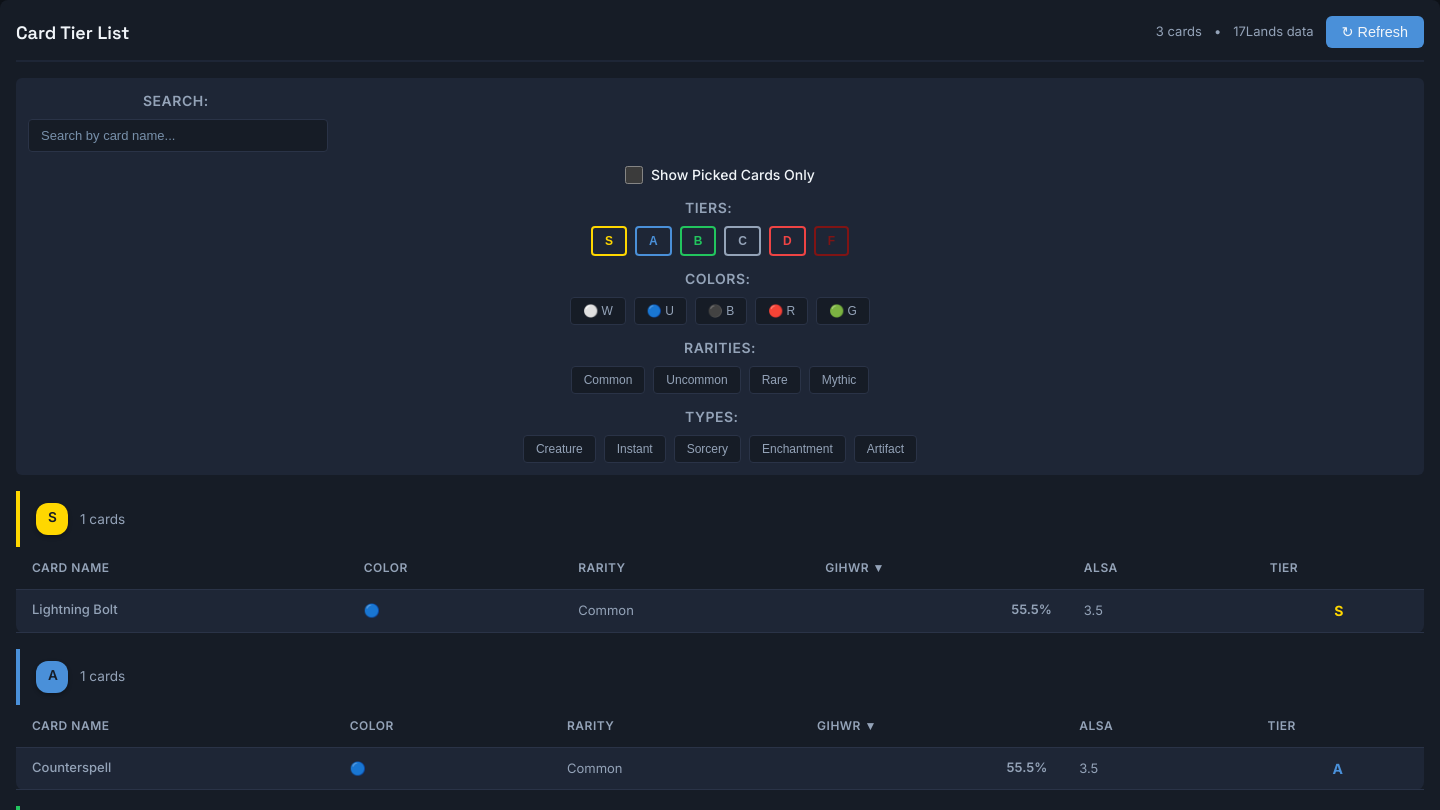
Test: TierList Component › Search Functionality › should filter cards by search term
Expected: the text "Lightning Bolt" is shown, [16, 592, 348, 628]
# Type in search box
Type "lightning" into the field with placeholder "Search by card name...". click: (178, 136)
box: [28, 119, 328, 152]
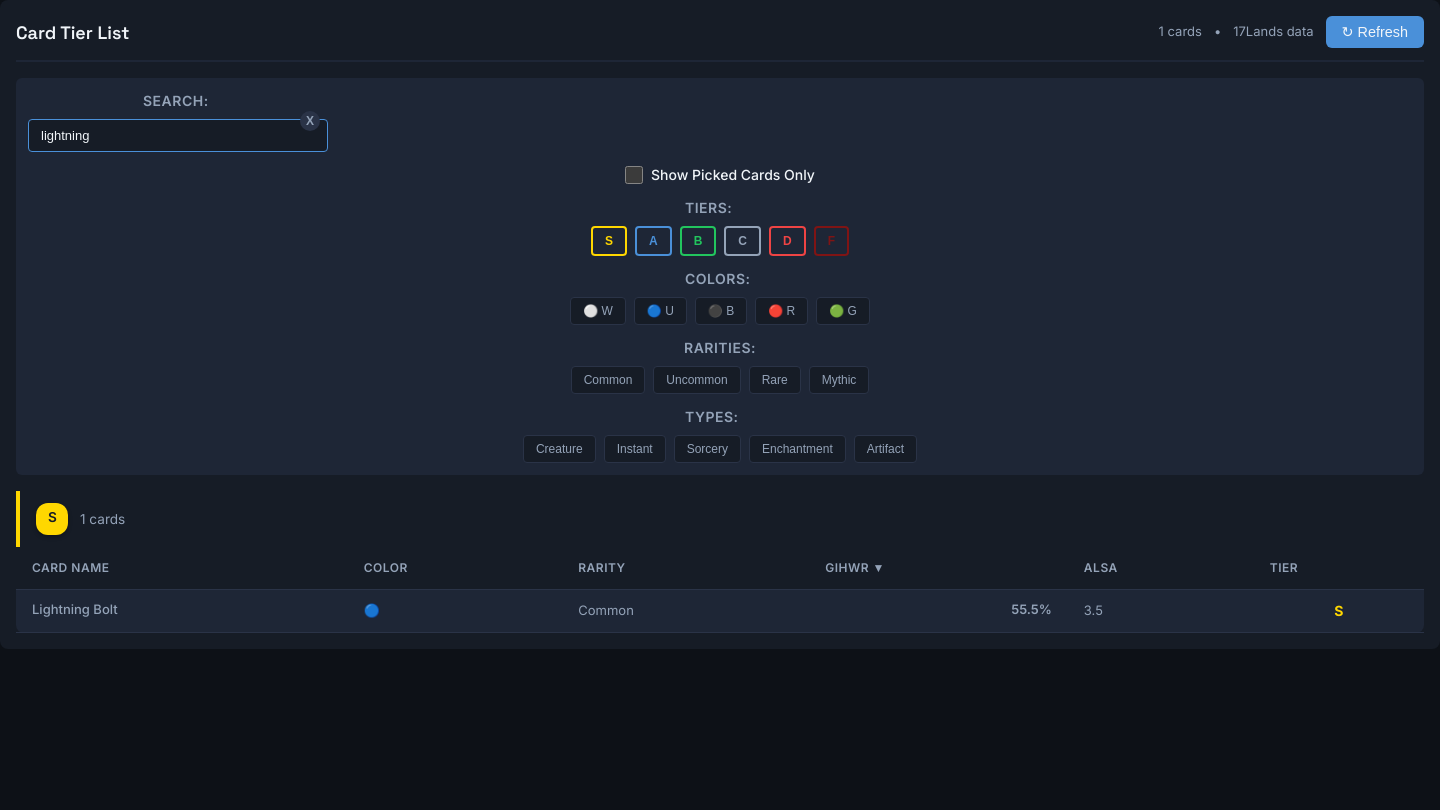
Expected: the text "Lightning Bolt" is shown, [16, 592, 348, 628]
Expected: the text "Counterspell" is gone
